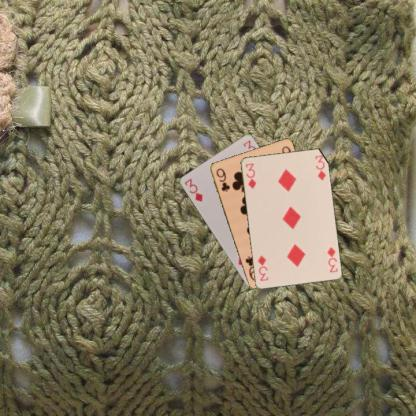3d: (181, 176, 204, 202), (324, 244, 339, 273), (243, 160, 257, 190)
9c: (213, 165, 231, 193)
